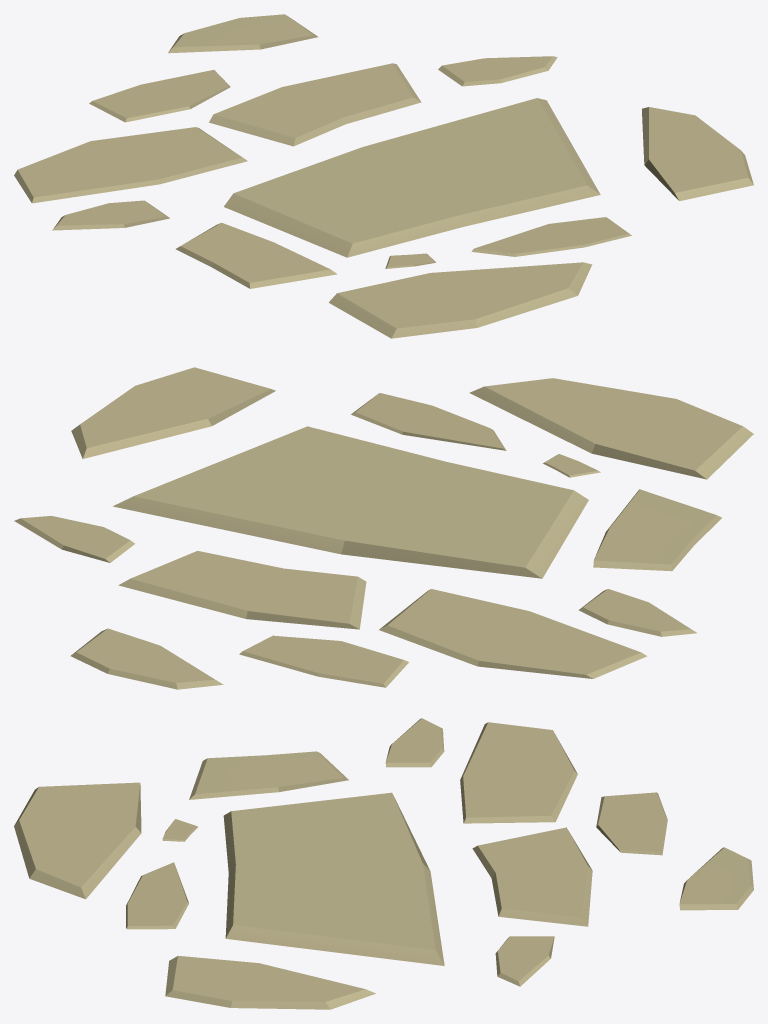
File: Rock_Big_2.fbx
The picture shows the model from 3 angles, top to bottom: view 1: azimuth 30°, elevation 25°; view 2: azimuth 150°, elevation 25°; view 3: azimuth 270°, elevation 25°; orthographic projection. The views are drawn at different scales.
Visible parts, largest first — view 1: rocks_big_2; view 2: rocks_big_2; view 3: rocks_big_2.
Part boxes in pixels (bbox=[...]): rocks_big_2: bbox=[14, 14, 753, 338]; rocks_big_2: bbox=[14, 367, 753, 689]; rocks_big_2: bbox=[14, 718, 753, 1009].
Size of the model in its own units: 736 by 10.76 by 792.
1 material, 1 textured.
